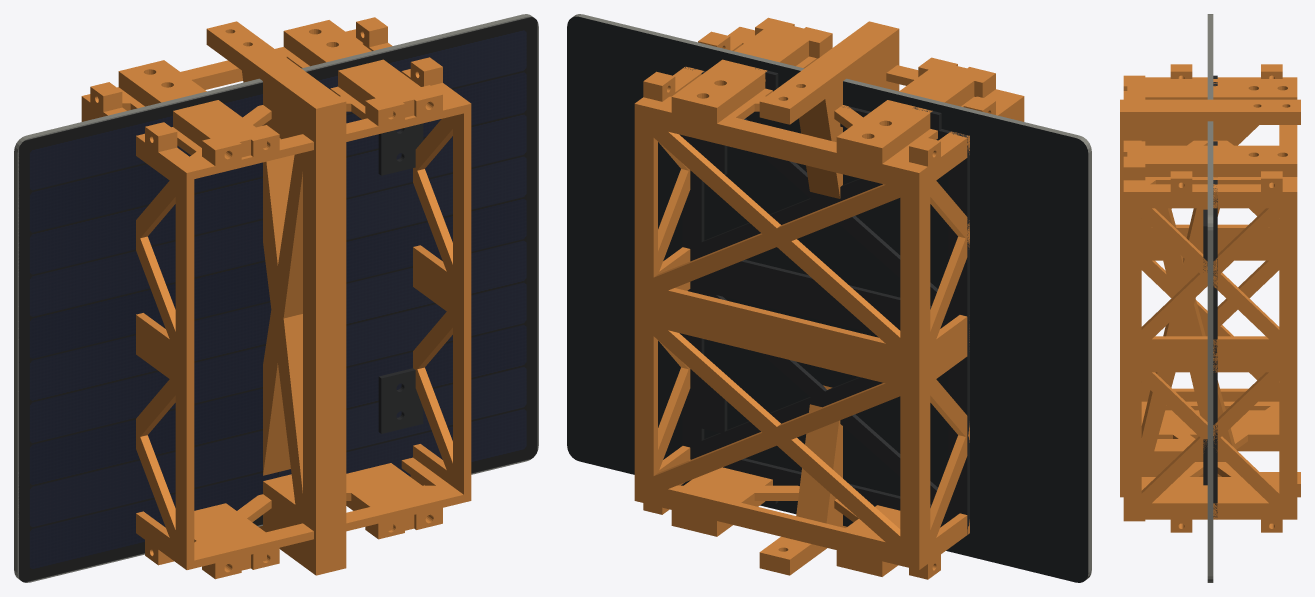
File: appearance.glb
The picture shows the model from 3 angles, left to right: view 1: azimuth 30°, elevation 25°; view 2: azimuth 150°, elevation 25°; view 3: azimuth 270°, elevation 25°; orthographic projection. The views are drawn at different scales.
Visible parts, largest first — view 1: Clean_SolarPanel_01, Clean_Chassis_Body_A, Clean_Chassis_Body_B, Clean_WingArm_03, Clean_WingArm_02, Clean_WingArm_01, Clean_SolarPanel_02, Clean_WingArm_04, Clean_RemovableTop_Front_A; view 2: Clean_SolarPanel_01, Clean_Chassis_Body_A, Clean_Chassis_Body_B, Clean_RemovableTop_Front_A, Clean_SolarPanel_02, Clean_WingArm_03, Clean_WingArm_04, Clean_WingArm_01, Clean_WingArm_02; view 3: Clean_Chassis_Body_B, Clean_Chassis_Body_A, Clean_WingArm_03, Clean_WingArm_02, Clean_SolarPanel_01, Clean_RemovableTop_Front_A, Clean_WingArm_01, Clean_WingArm_04, Clean_SolarPanel_02.
Boxes of the visible parts, <box> form: Clean_SolarPanel_01: <box>14,14,538,582</box>; Clean_Chassis_Body_A: <box>81,17,471,579</box>; Clean_Chassis_Body_B: <box>81,20,471,569</box>; Clean_WingArm_03: <box>206,21,346,570</box>; Clean_WingArm_02: <box>259,92,345,575</box>; Clean_WingArm_01: <box>259,92,346,573</box>; Clean_SolarPanel_02: <box>14,14,538,582</box>; Clean_WingArm_04: <box>208,22,345,564</box>; Clean_RemovableTop_Front_A: <box>378,123,423,433</box>; Clean_SolarPanel_01: <box>567,14,1091,582</box>; Clean_Chassis_Body_A: <box>634,27,1024,576</box>; Clean_Chassis_Body_B: <box>634,17,1023,579</box>; Clean_RemovableTop_Front_A: <box>682,66,969,534</box>; Clean_SolarPanel_02: <box>567,14,1091,582</box>; Clean_WingArm_03: <box>759,29,899,197</box>; Clean_WingArm_04: <box>762,31,885,198</box>; Clean_WingArm_01: <box>759,21,898,573</box>; Clean_WingArm_02: <box>762,22,899,575</box>; Clean_Chassis_Body_B: <box>1123,64,1297,521</box>; Clean_Chassis_Body_A: <box>1123,75,1297,532</box>; Clean_WingArm_03: <box>1120,99,1300,493</box>; Clean_WingArm_02: <box>1120,112,1300,497</box>; Clean_SolarPanel_01: <box>1207,14,1213,582</box>; Clean_RemovableTop_Front_A: <box>1203,75,1217,517</box>; Clean_WingArm_01: <box>1120,99,1300,495</box>; Clean_WingArm_04: <box>1122,100,1299,494</box>; Clean_SolarPanel_02: <box>1207,217,1213,578</box>.
Size of the model in its own units: 0.2747 by 0.235 by 0.1.
11 materials, 2 textured.
